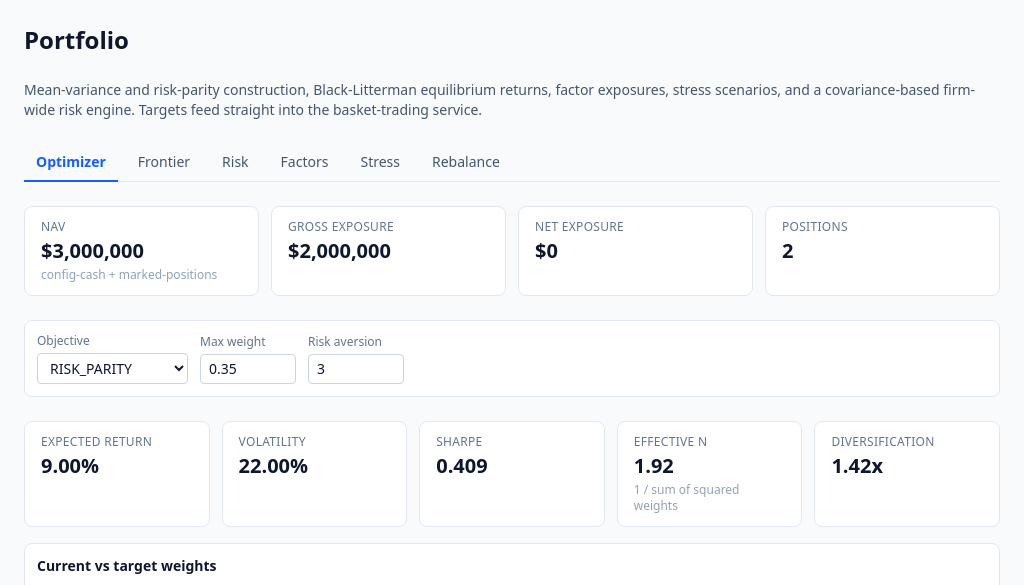
Scenario: Portfolio page › shows the diversification callout against the sum-of-absolutes number
Click the button with test id "tab-risk" at (235, 163), box [210,144,261,182]
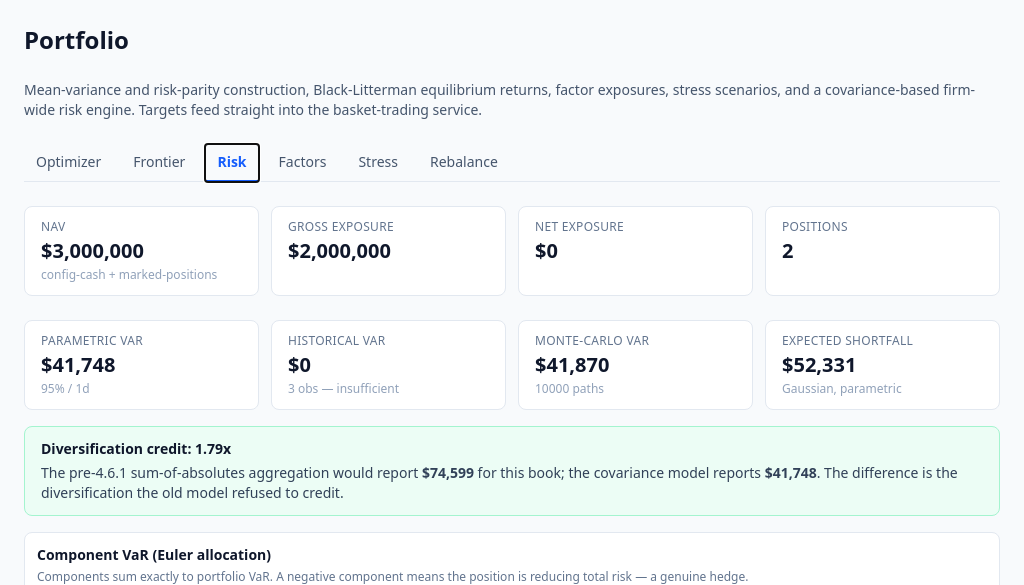
Now the element with test id "diversification-callout" shows "1.79x", box [24,426,1000,516]
Now the element with test id "diversification-callout" shows "$74,599", box [422,463,474,482]
Now the element with test id "diversification-callout" shows "$41,748", box [765,463,817,482]
